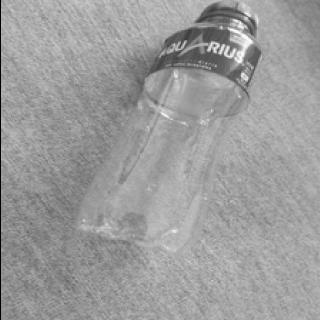plastic_bottles: (74, 0, 270, 254)
